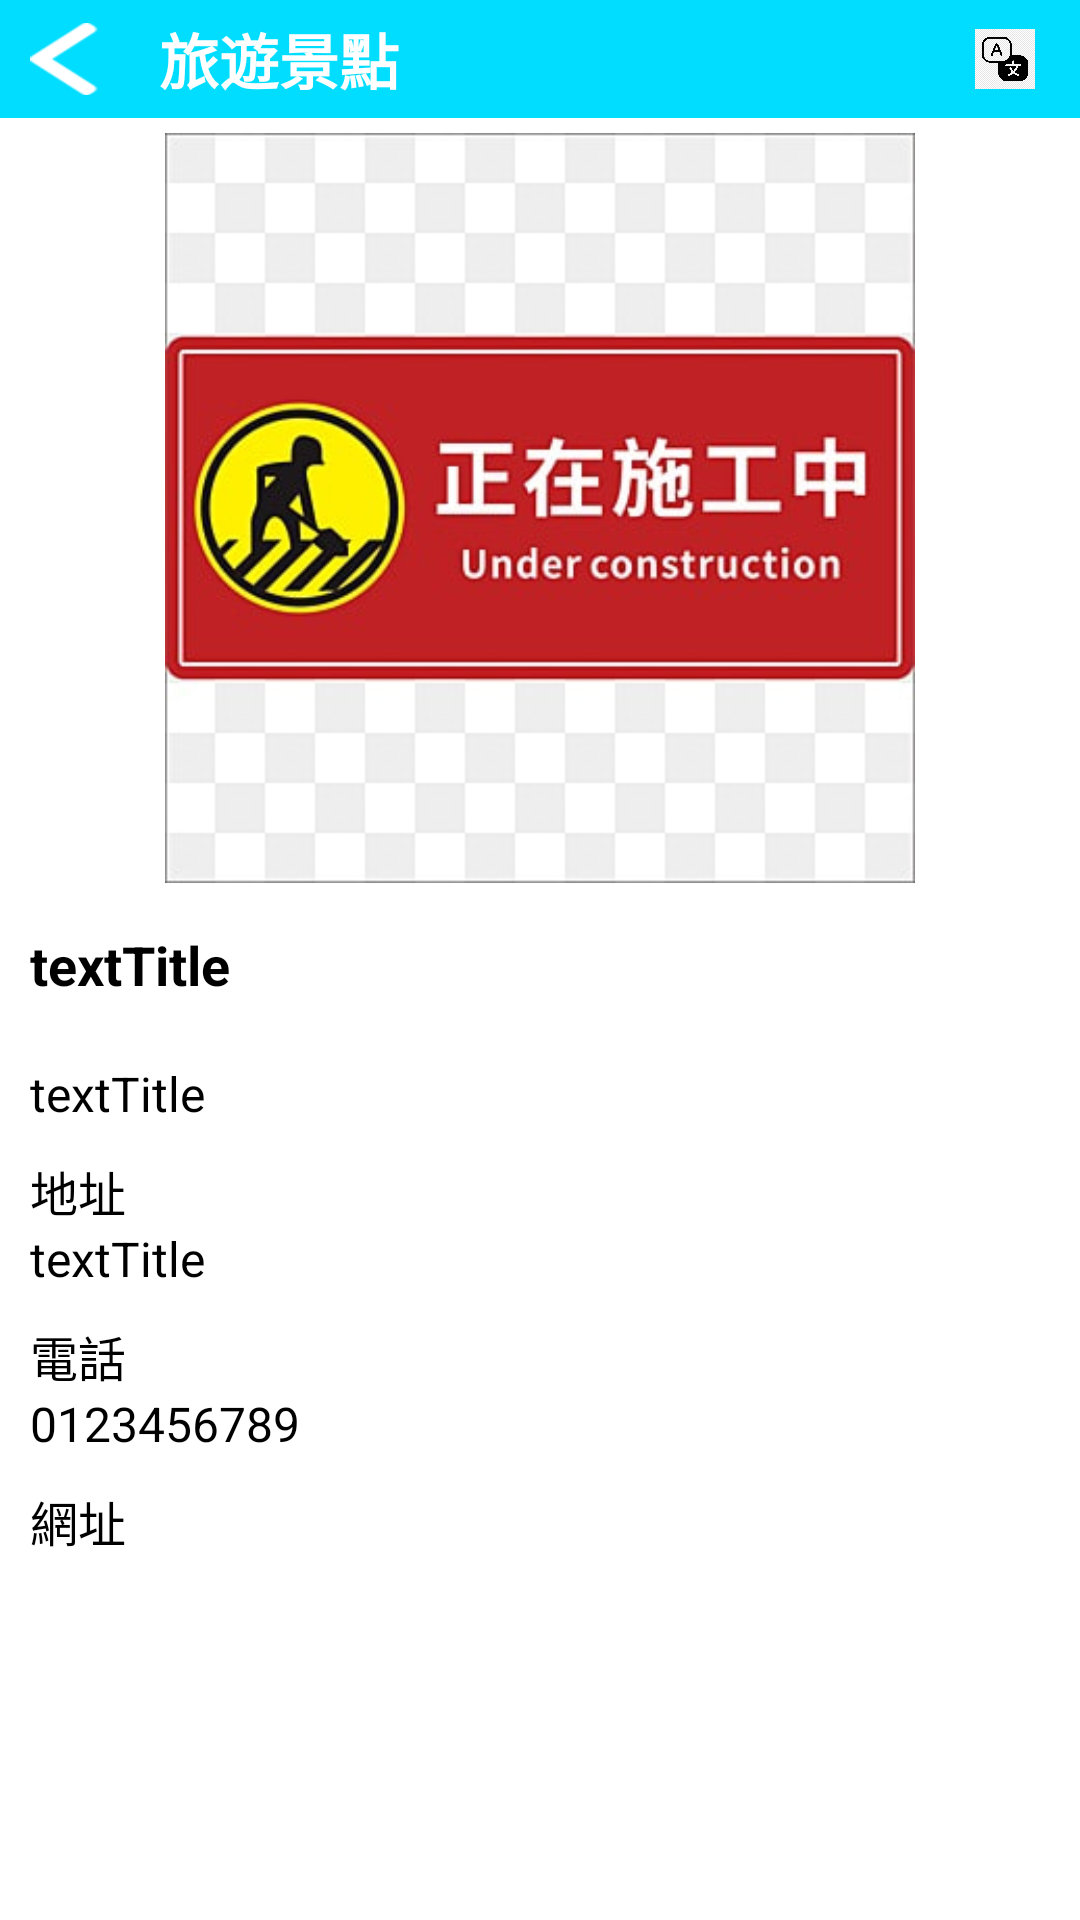

Locate icon controls on the screen. Image size 1080px×1920px, boxes as bbox(x1, y1, x2, y2).
back: bbox(30, 23, 98, 95)
lang: bbox(975, 29, 1035, 89)
